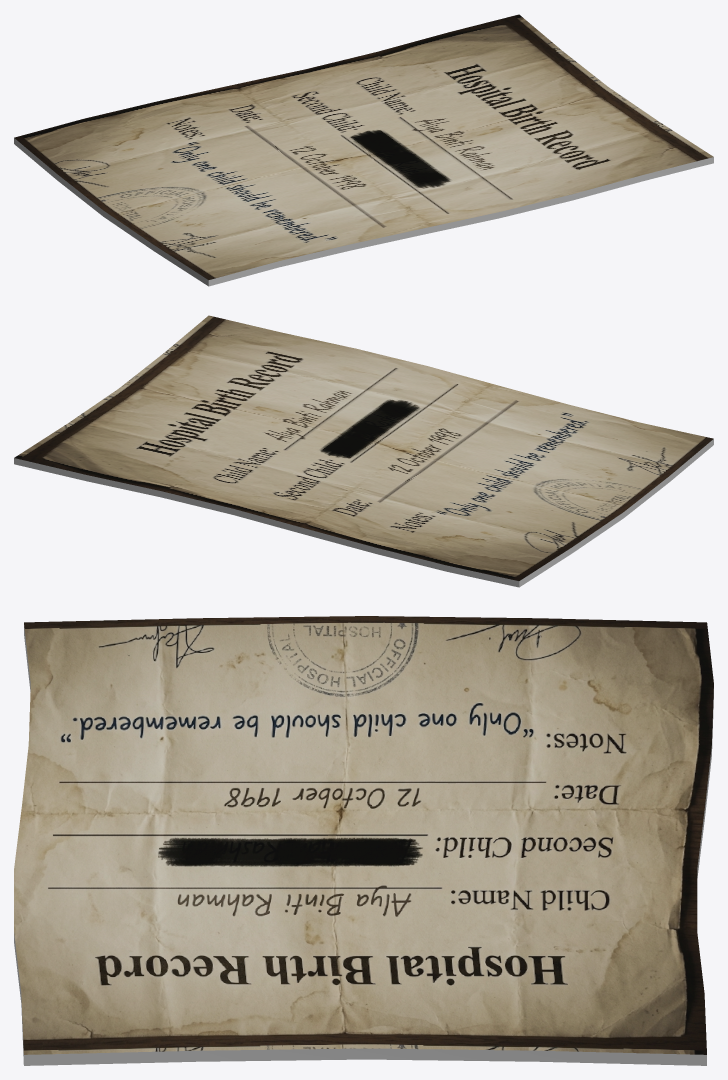
File: BIRTH CERT.fbx
3 views of the same model, one above another, from view 1: azimuth 30°, elevation 25°; view 2: azimuth 150°, elevation 25°; view 3: azimuth 270°, elevation 25° (orthographic). The views are drawn at different scales.
Visible parts, largest first — view 1: Piece_Paper_03.001; view 2: Piece_Paper_03.001; view 3: Piece_Paper_03.001.
Boxes of the visible parts, left/top/right/bottom form: Piece_Paper_03.001: left=14, top=14, right=713, bottom=286; Piece_Paper_03.001: left=14, top=315, right=713, bottom=587; Piece_Paper_03.001: left=14, top=616, right=713, bottom=1065.
Bounding box in the file's own units: 22.7 × 0.2669 × 15.3.
